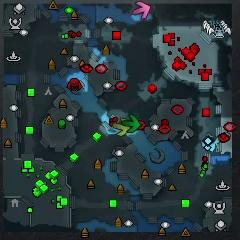x1: (133, 1, 151, 20)
x2: (112, 119, 130, 136)
x3: (202, 133, 220, 152)
x4: (122, 115, 141, 134)
